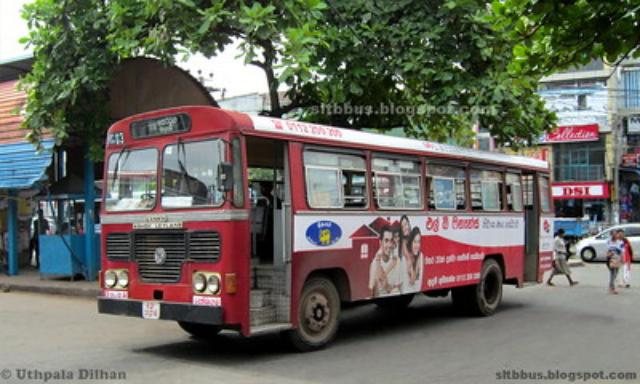bus: (96, 104, 555, 352)
